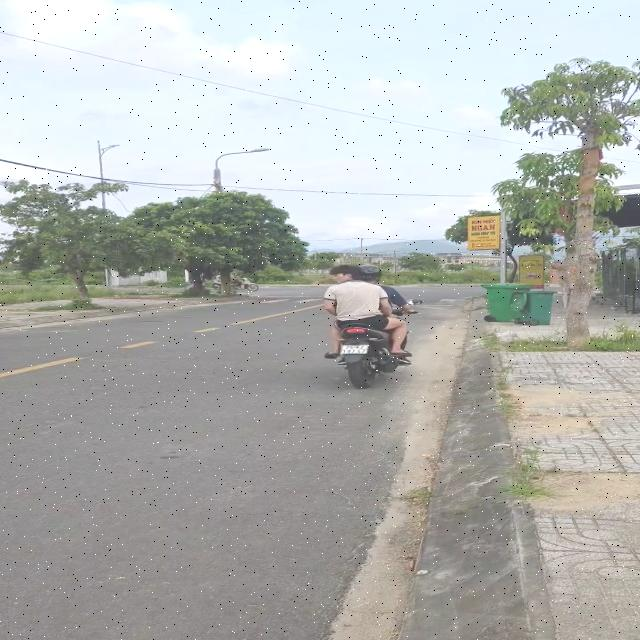helmet: (356, 265, 382, 282)
no_helmet: (329, 265, 360, 280)
